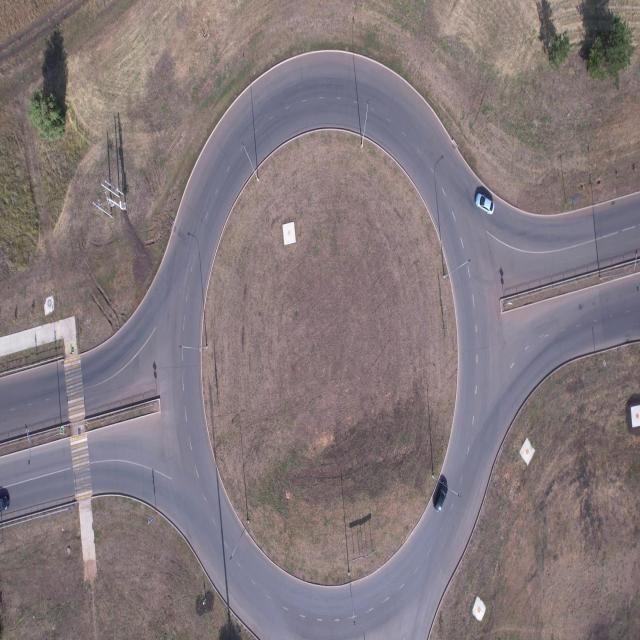Car: (431, 465, 458, 520), (474, 172, 498, 227), (0, 476, 17, 528)
